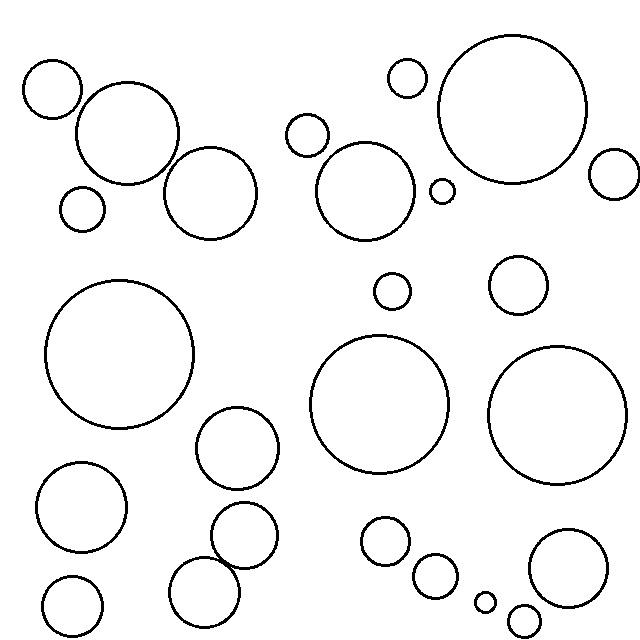circle: (41, 274, 199, 432), (436, 31, 591, 188), (308, 332, 452, 476), (485, 342, 630, 485), (74, 79, 182, 189), (313, 139, 420, 246), (159, 143, 261, 243), (32, 458, 131, 555), (193, 403, 283, 492), (525, 524, 613, 611), (166, 554, 244, 632), (208, 500, 282, 572), (38, 571, 108, 640), (485, 252, 553, 321), (20, 56, 85, 123), (357, 511, 414, 570), (585, 145, 640, 204), (408, 549, 464, 603), (56, 184, 110, 235), (282, 109, 332, 160), (383, 54, 431, 102), (371, 270, 415, 314), (506, 601, 545, 640), (426, 175, 459, 207), (474, 589, 500, 616)
